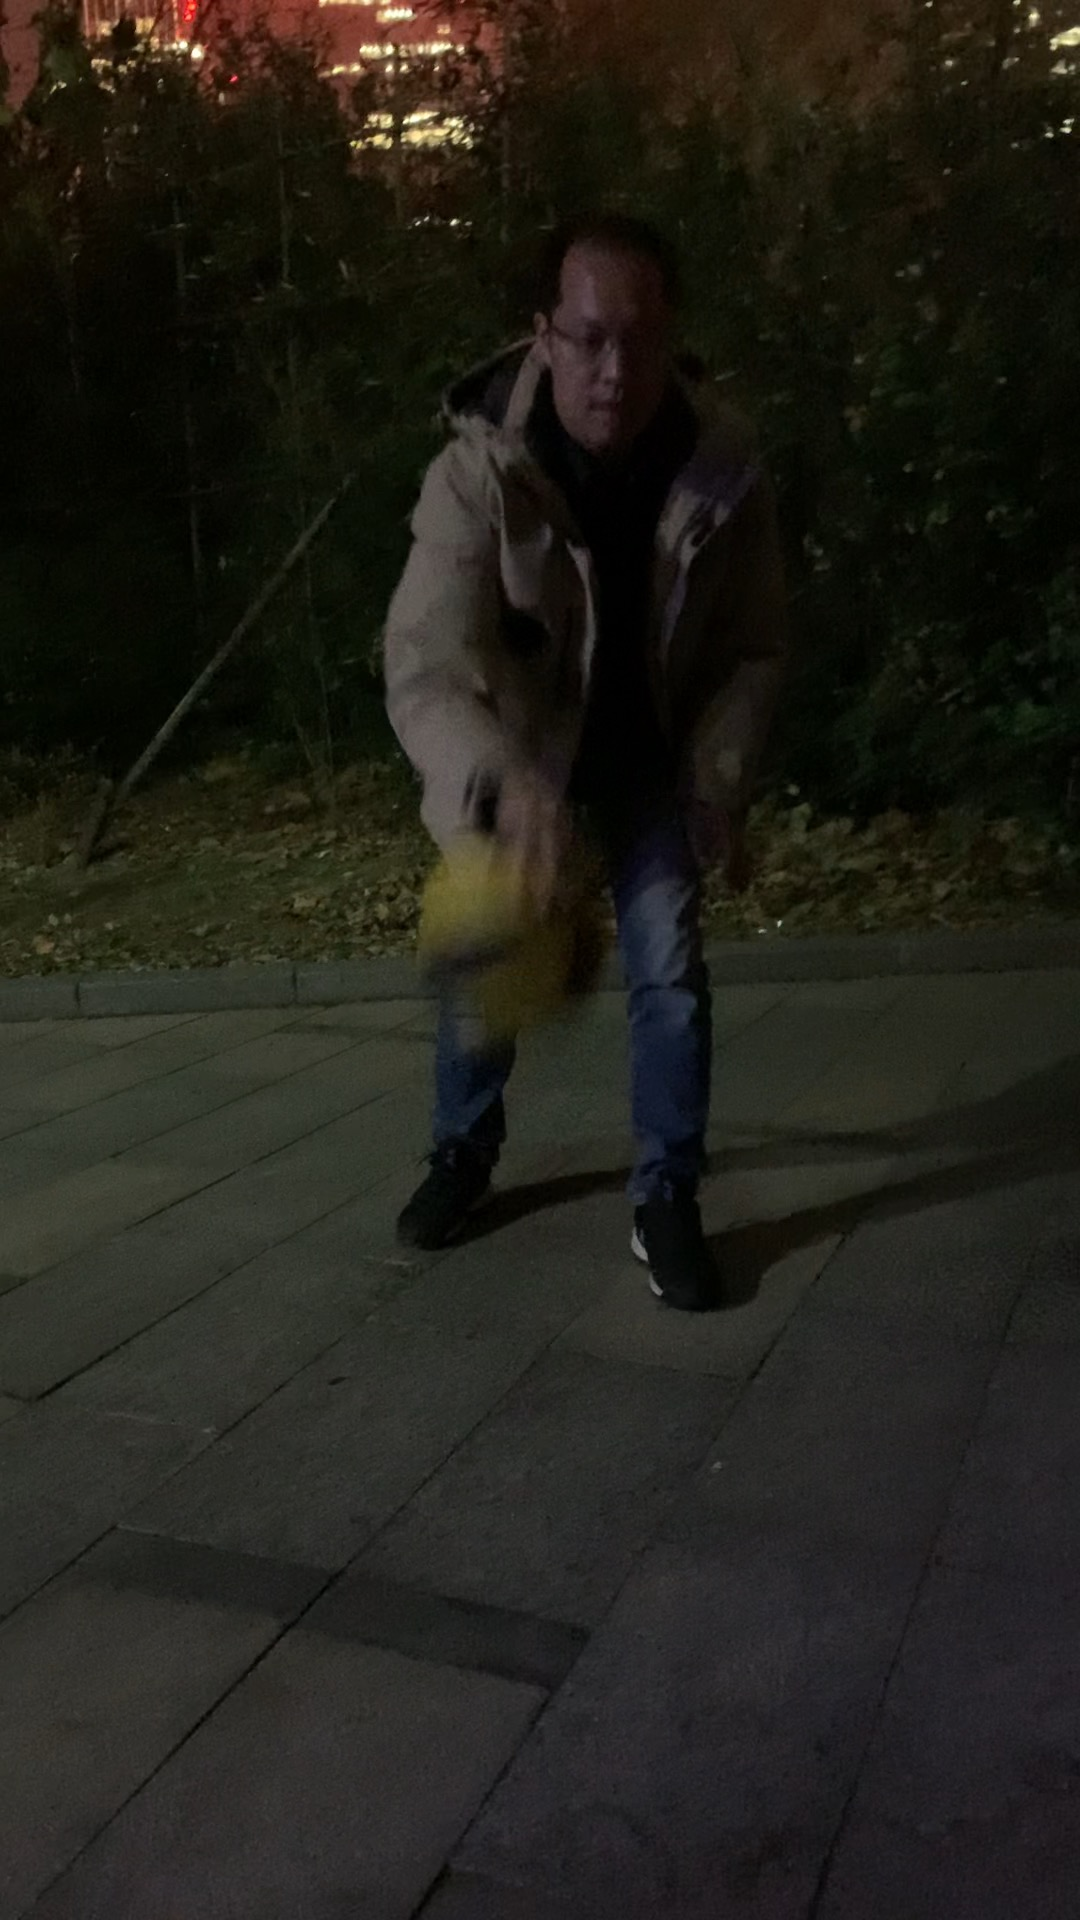ball: (419, 845, 620, 1040)
